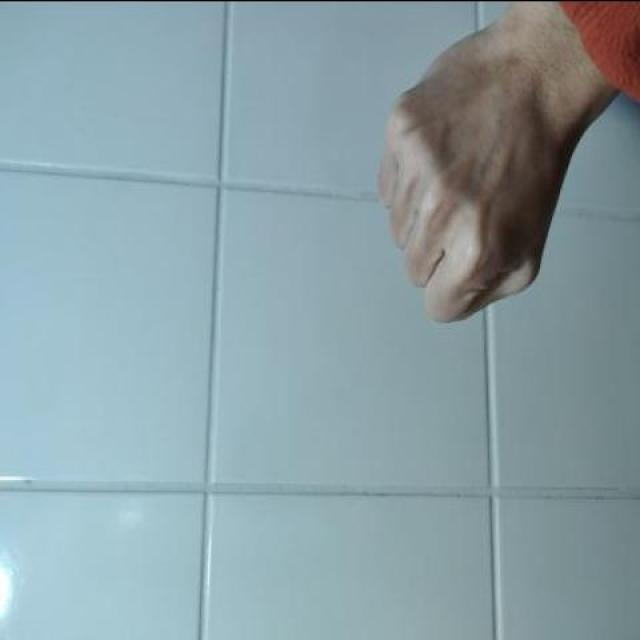Closed Hand: (339, 0, 608, 347)
